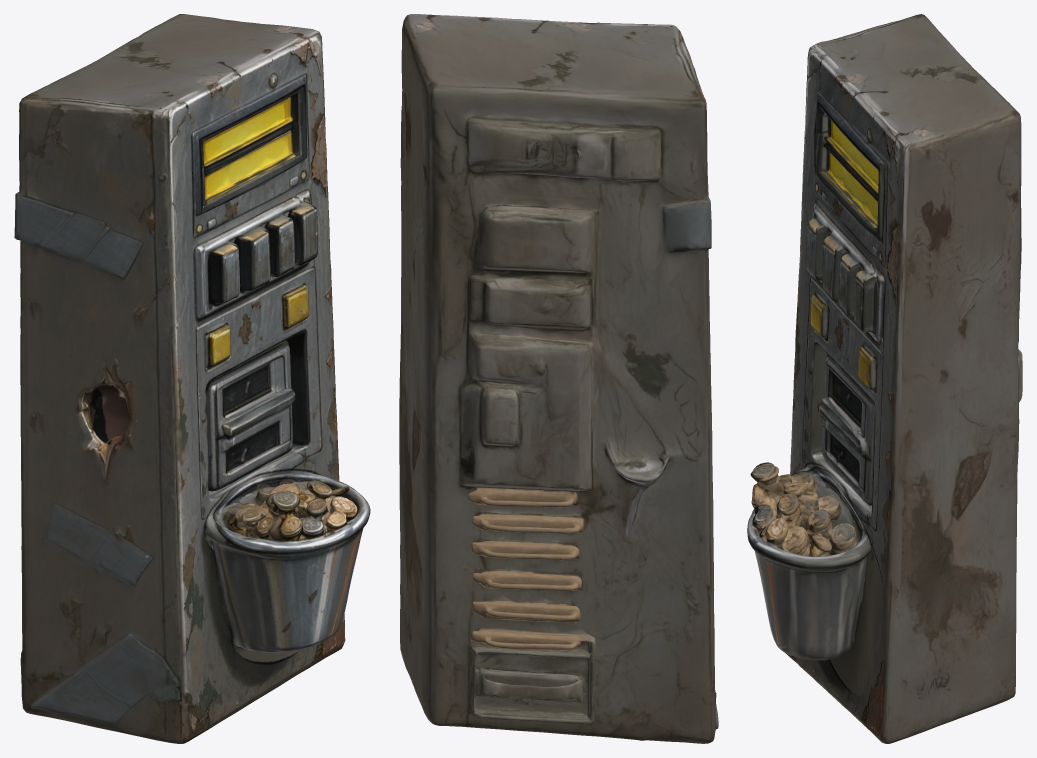
Rendered from change_machine.glb.
The picture shows the model from 3 angles, left to right: view 1: azimuth 30°, elevation 25°; view 2: azimuth 150°, elevation 25°; view 3: azimuth 270°, elevation 25°; orthographic projection. The views are drawn at different scales.
Visible parts, largest first — view 1: piece; view 2: piece; view 3: piece.
Part boxes in pixels (x1,y1,x2,y2): piece: (14,14,370,743); piece: (399,14,718,743); piece: (747,14,1022,743).
Size of the model in its own units: 0.8825 by 1.7 by 0.7.
Materials: 1 (1 with a texture image).
